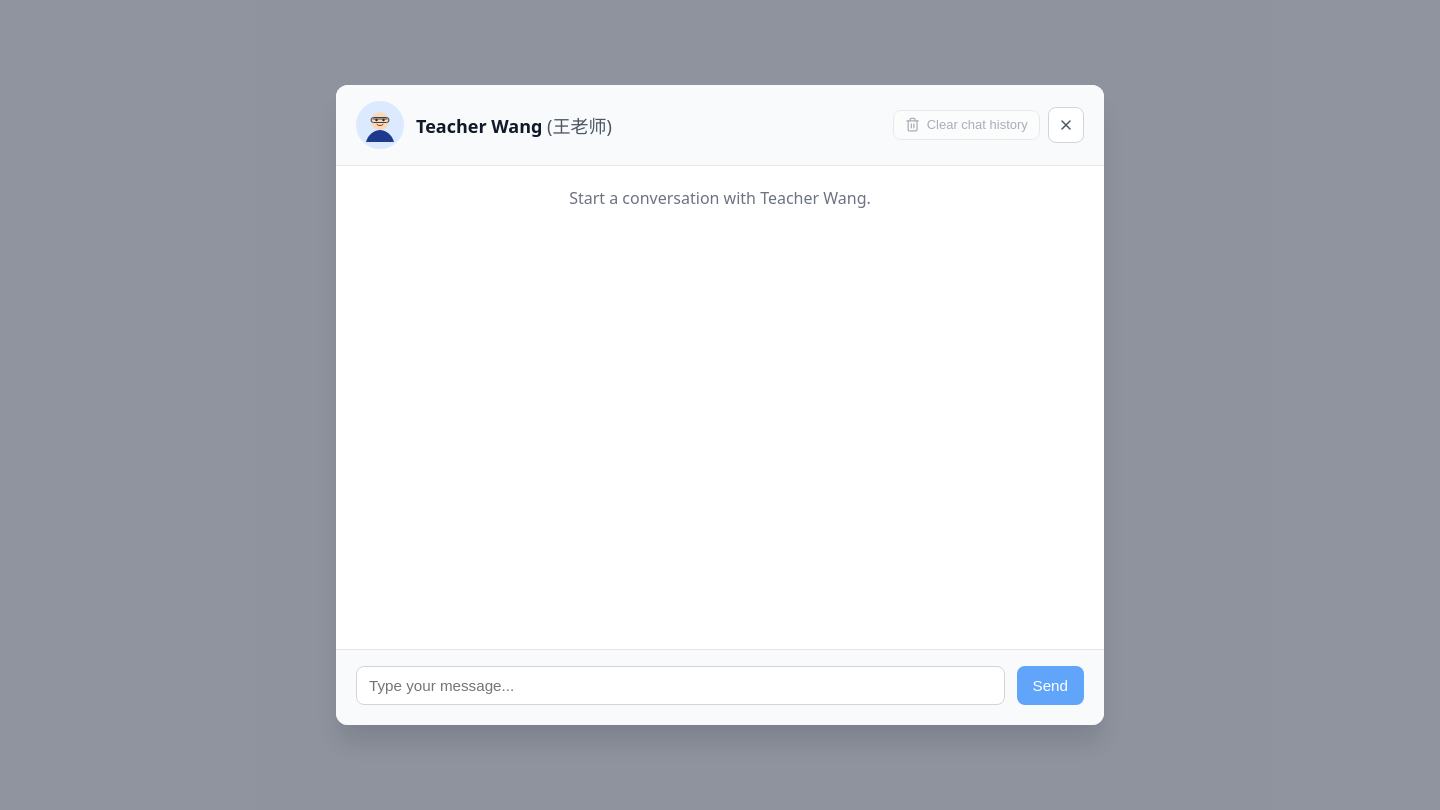
ChatModal › shows an error when the chat request fails
Type "Hello" into the field labelled "message".
click(680, 686); type("Hello")  # box [356, 666, 1004, 705]
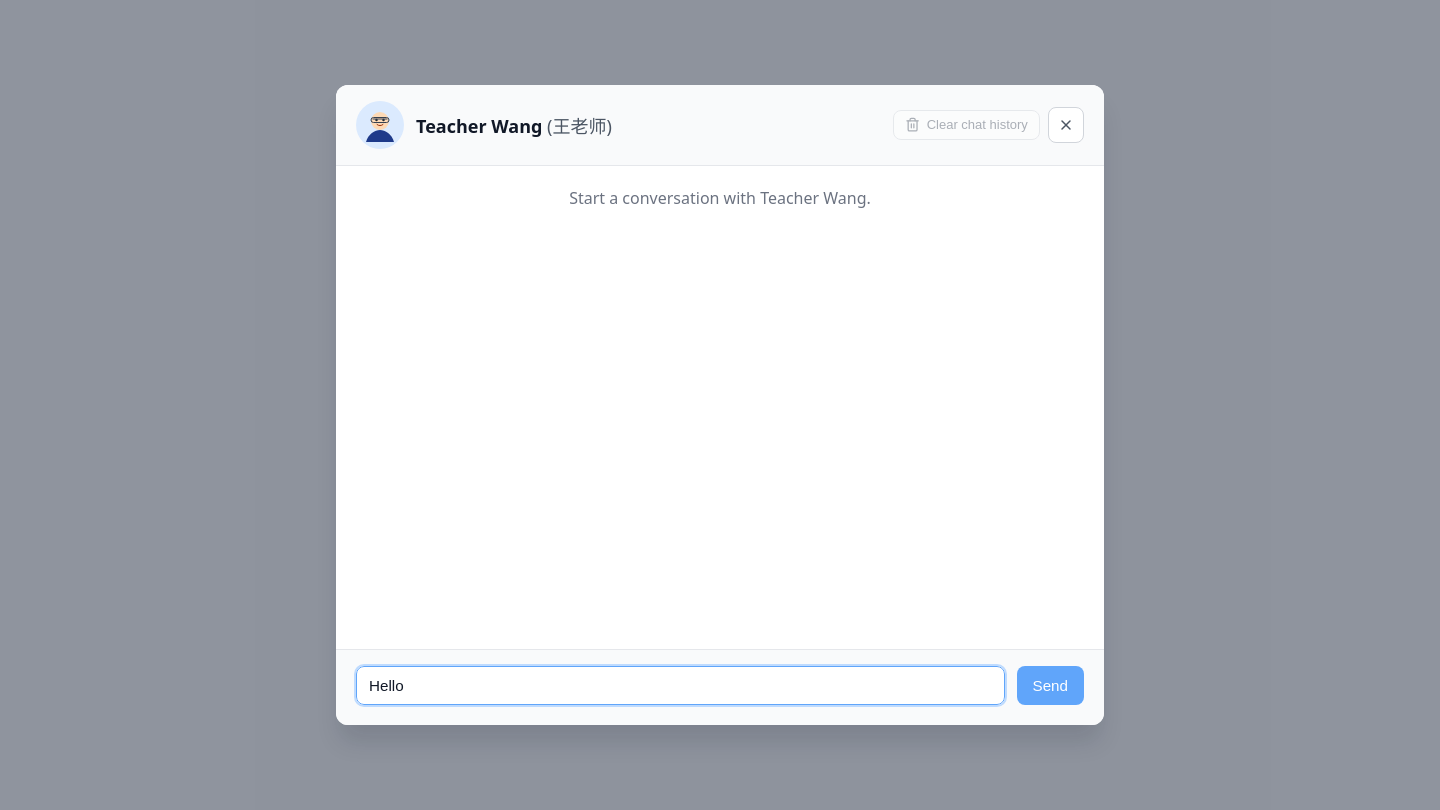
Click the button "Send".
click(1050, 686)  # box [1016, 666, 1084, 705]
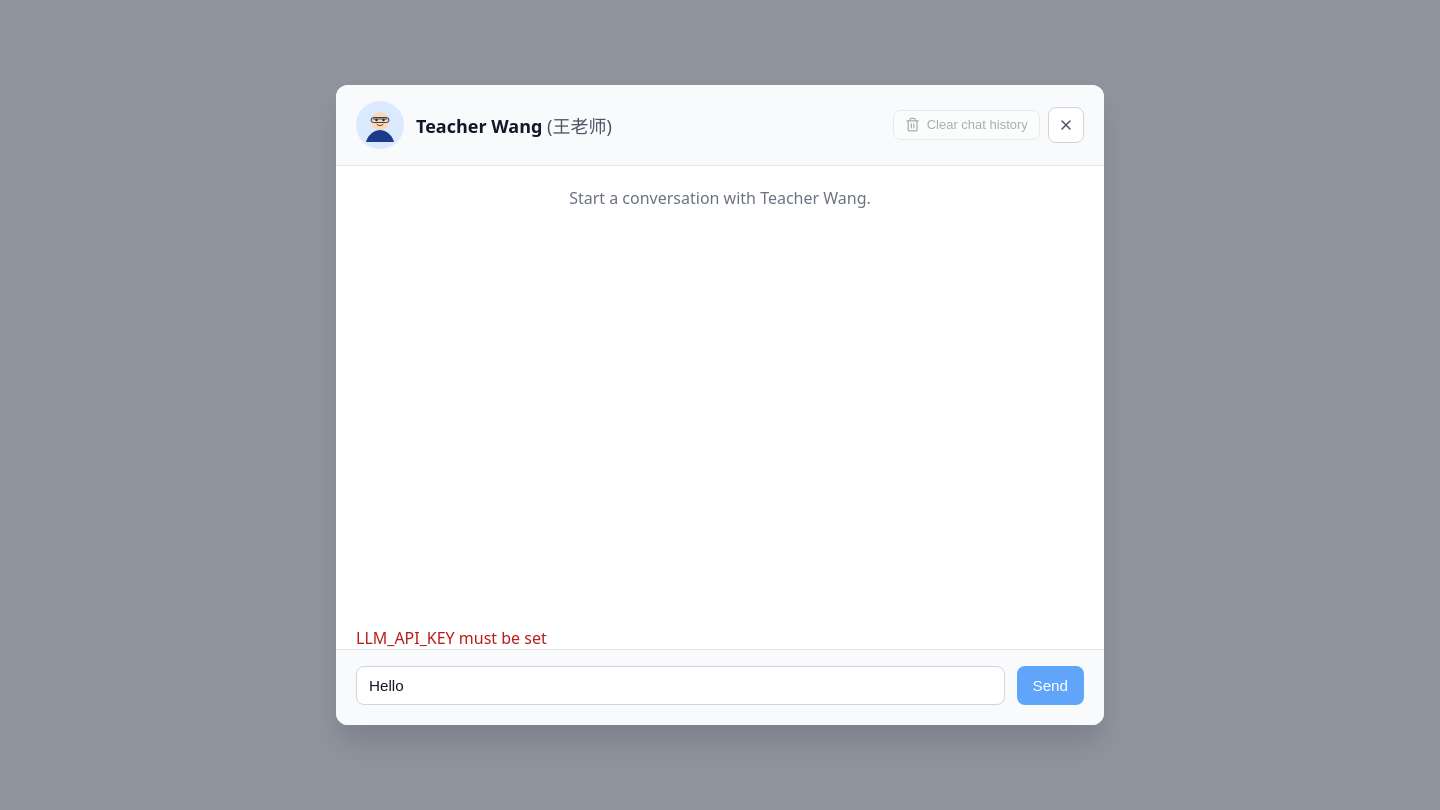
Expected: the text "LLM_API_KEY must be set" is shown, [356, 627, 547, 649]
